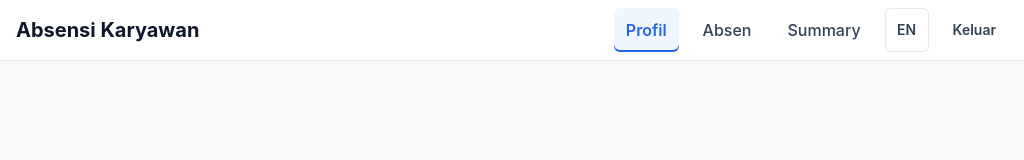
Test: AppShell › switches all shell copy to English via the language toggle
Click the button with test id "lang-toggle" at (907, 30), box [885, 8, 929, 52]
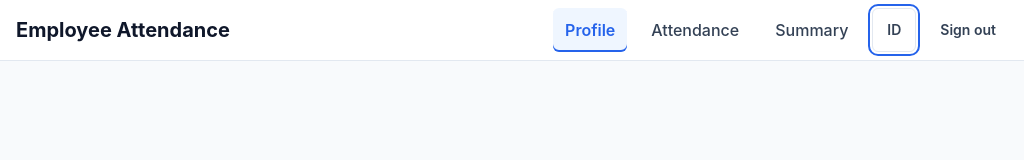
expect the number of links "Attendance" is 1: met, box [651, 20, 739, 40]
expect the text "Employee Attendance" is shown: met, box [16, 16, 230, 44]
